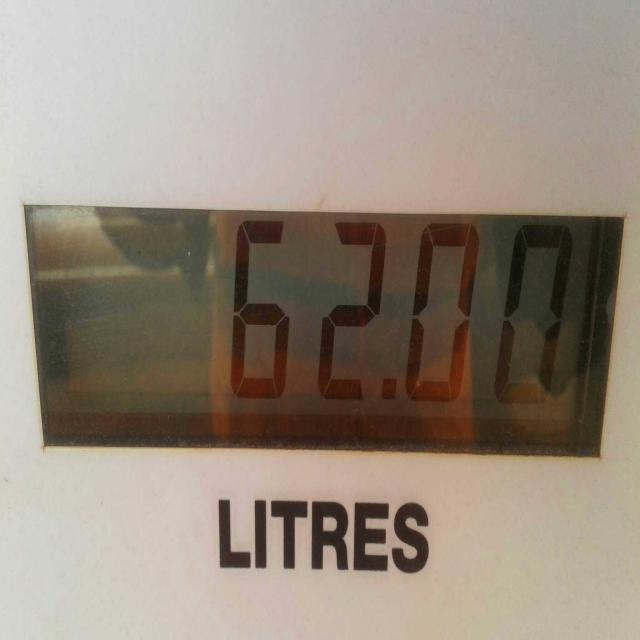.: (375, 376, 396, 412)
0: (496, 223, 573, 416), (405, 223, 472, 405)
2: (318, 223, 382, 408)
6: (227, 219, 290, 400)
screen: (26, 202, 624, 458)
